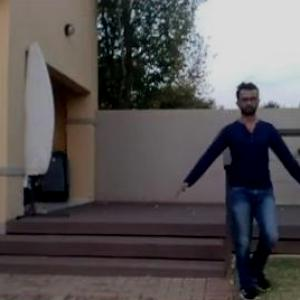land: (163, 79, 300, 299)
